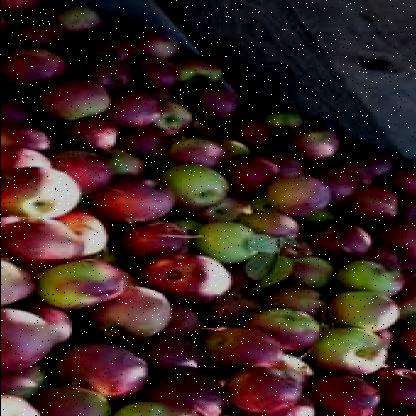apple: (7, 161, 81, 219), (245, 306, 323, 358), (310, 324, 384, 374), (103, 82, 164, 132), (52, 268, 122, 310), (44, 72, 110, 116), (162, 166, 223, 212), (198, 226, 266, 260), (340, 260, 401, 297), (340, 295, 394, 325)
